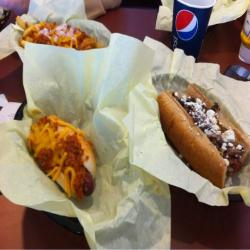hotdog: (150, 82, 250, 187), (17, 108, 106, 207)
